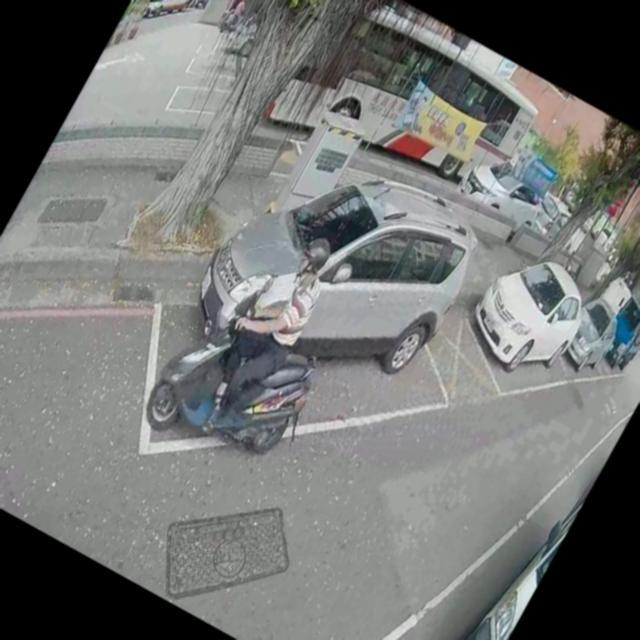person: (178, 216, 350, 452), (220, 0, 252, 33)
